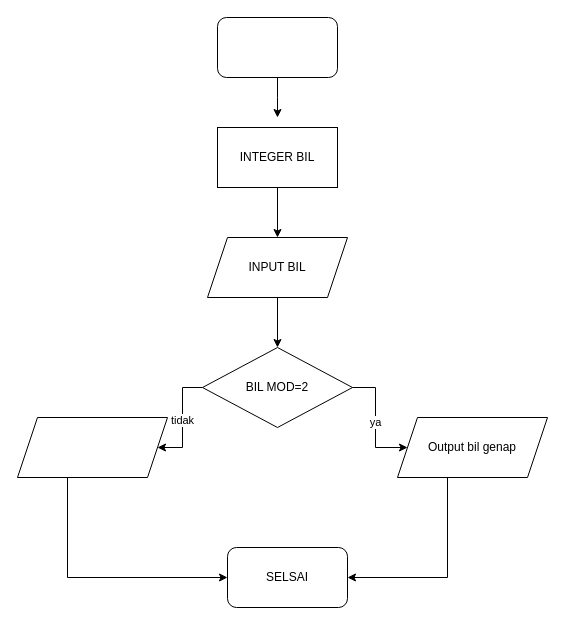
The diagram is 565 pixels wide and 625 high, and some of its shapes have lost their labels. The box of each missing label's shape, as (x1, y1, x2, y2) in pixels:
MULAI: (216, 16, 338, 78)
output bil ganjil: (16, 416, 168, 478)
